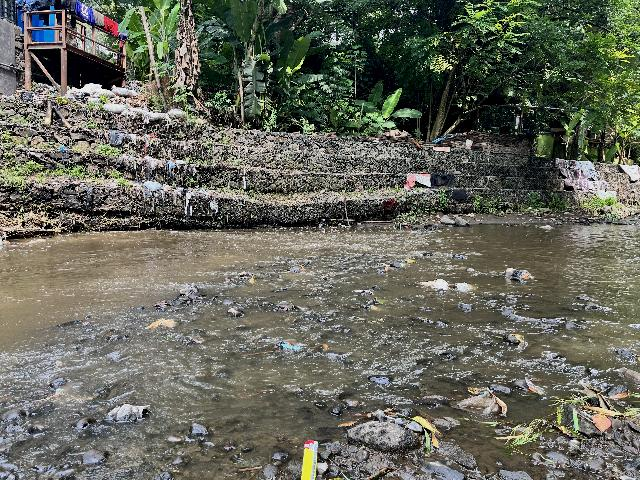Sampah Anorganik: (456, 386, 508, 418), (502, 264, 539, 282), (303, 439, 319, 480), (415, 277, 449, 290), (279, 339, 303, 353), (526, 378, 544, 395), (458, 282, 475, 293), (453, 253, 468, 262), (404, 258, 415, 265)
Sampah Organik: (557, 389, 640, 433), (482, 421, 554, 453), (396, 414, 442, 453), (143, 318, 179, 330), (233, 464, 263, 471), (331, 420, 359, 427), (150, 300, 170, 309), (512, 332, 524, 345), (75, 396, 96, 403), (33, 396, 67, 400), (247, 275, 259, 284), (385, 265, 389, 272)
